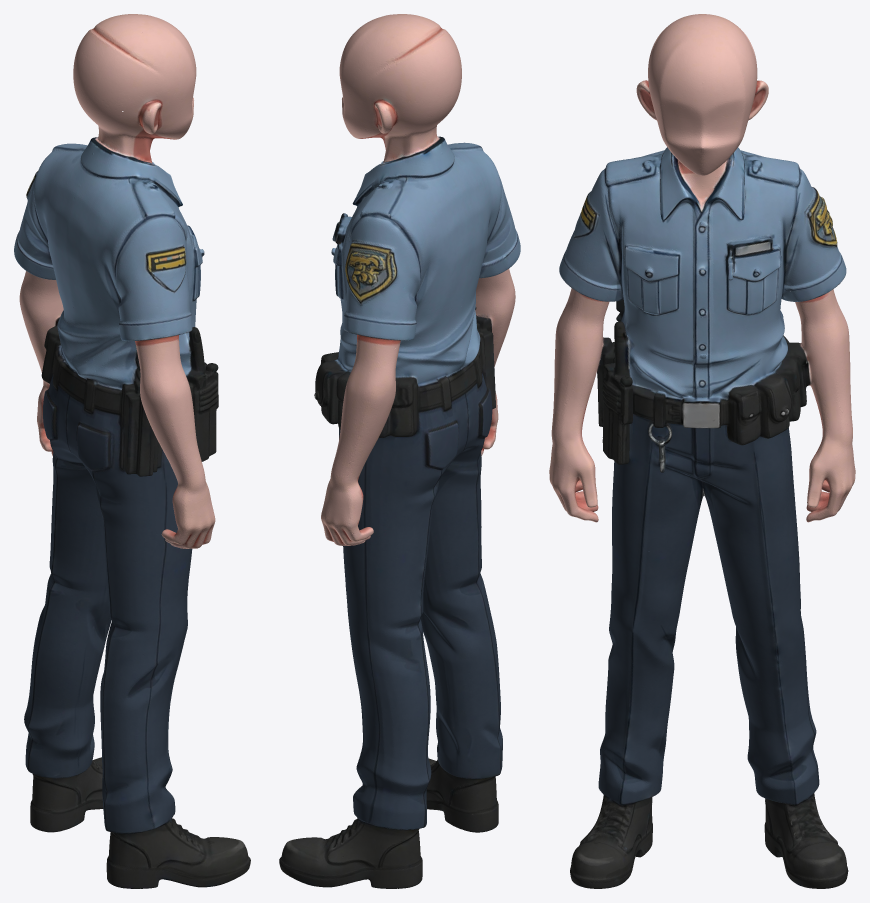
Rendered from police+officer+3d+model (2).glb.
3 views of the same model, side by side, from view 1: azimuth 30°, elevation 25°; view 2: azimuth 150°, elevation 25°; view 3: azimuth 270°, elevation 25° (orthographic). The views are drawn at different scales.
Visible parts, largest first — view 1: tripo_node_52ce5113-a5f4-4822-990c-4107f61d0992; view 2: tripo_node_52ce5113-a5f4-4822-990c-4107f61d0992; view 3: tripo_node_52ce5113-a5f4-4822-990c-4107f61d0992.
Part boxes in pixels (box(x1,y1,x2,y2)): tripo_node_52ce5113-a5f4-4822-990c-4107f61d0992: box(14, 14, 250, 888); tripo_node_52ce5113-a5f4-4822-990c-4107f61d0992: box(279, 14, 520, 888); tripo_node_52ce5113-a5f4-4822-990c-4107f61d0992: box(549, 14, 855, 888).
Bounding box in the file's own units: 0.1667 × 1 × 0.3292.
Materials: 1 (1 with a texture image).
